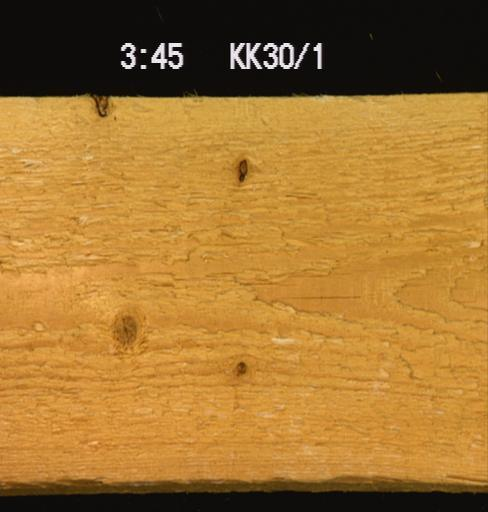dry_knot: (235, 156, 248, 182)
edge_knot: (91, 94, 112, 116)
small_knot: (231, 358, 247, 376)
sound_knot: (106, 307, 143, 355)
wave: (0, 459, 487, 492)
